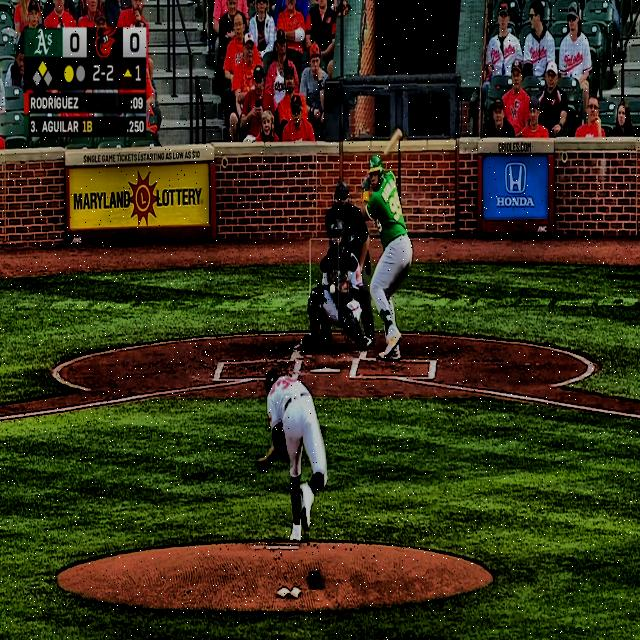baseball: (330, 284, 336, 295)
